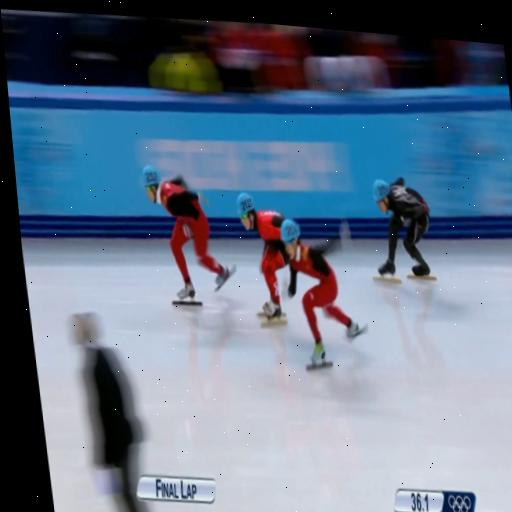Skater: (281, 220, 368, 369), (143, 166, 235, 302), (237, 193, 289, 326), (373, 178, 430, 277)
